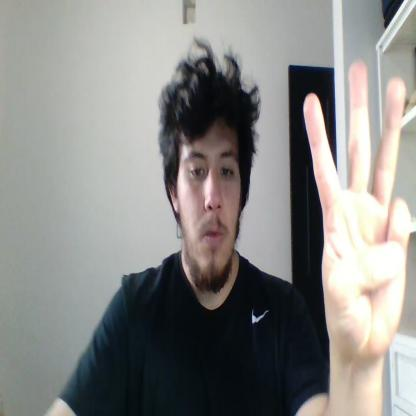W: (304, 60, 411, 360)
